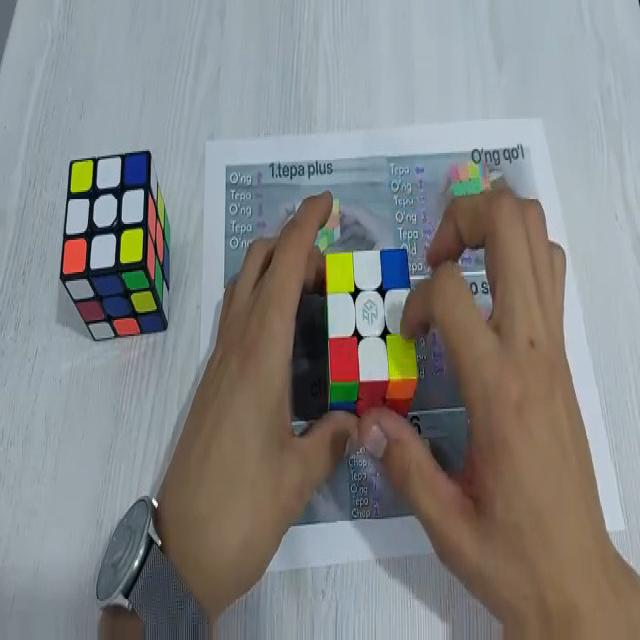Rub: (60, 147, 172, 343), (325, 246, 419, 422)
